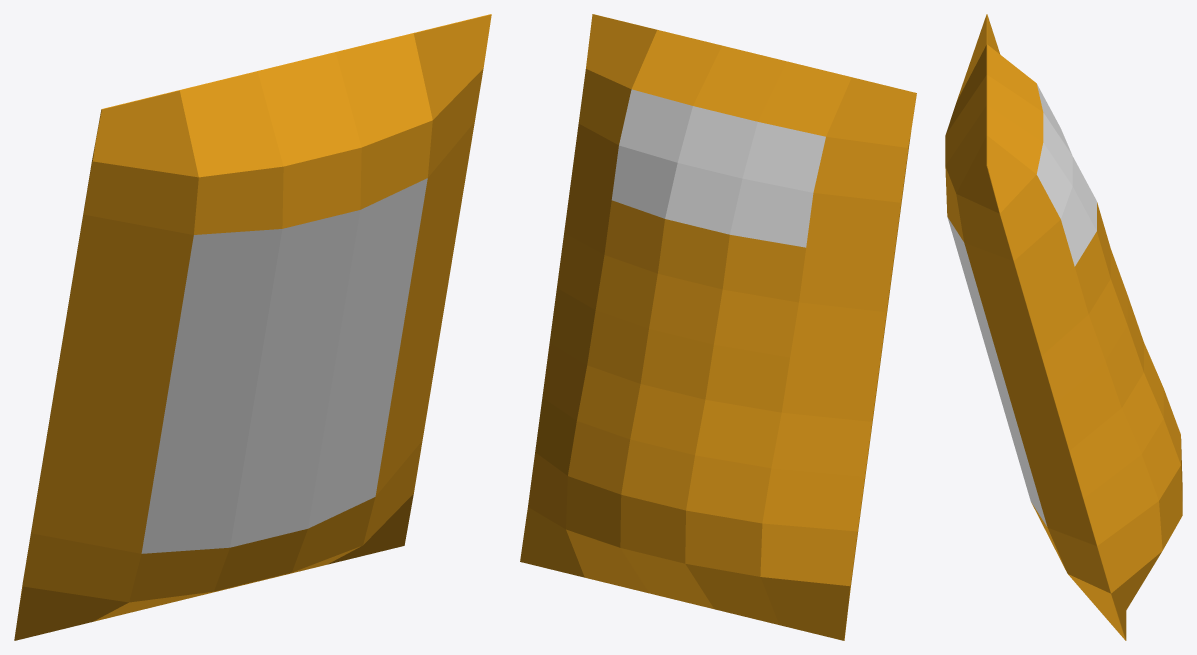
Rendered from Kopie von Chips.fbx.
The picture shows the model from 3 angles, left to right: view 1: azimuth 30°, elevation 25°; view 2: azimuth 150°, elevation 25°; view 3: azimuth 270°, elevation 25°; orthographic projection. The views are drawn at different scales.
Visible parts, largest first — view 1: Cube; view 2: Cube; view 3: Cube.
Part boxes in pixels (bbox=[...]): Cube: bbox=[14, 14, 491, 640]; Cube: bbox=[520, 14, 916, 640]; Cube: bbox=[945, 14, 1182, 640].
Bounding box in the file's own units: 200 × 292 × 132.
